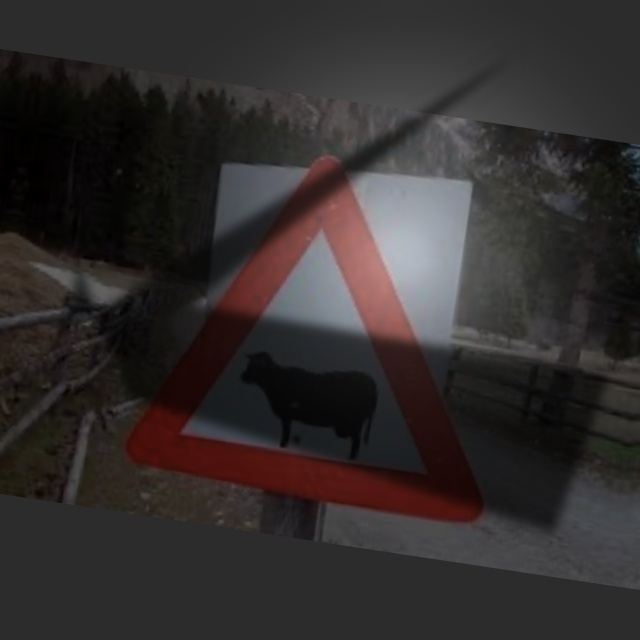Cattle: (126, 150, 516, 527)
